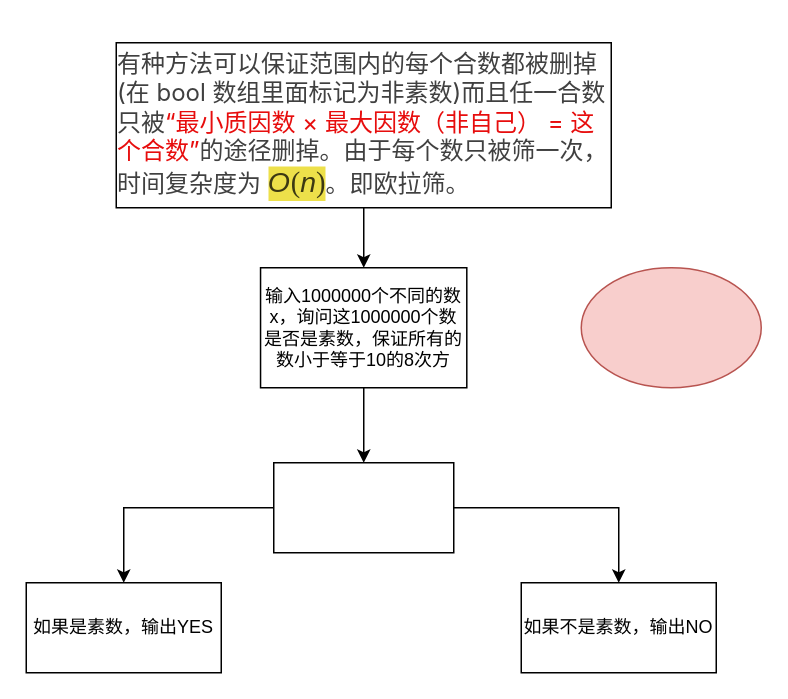
The diagram is 788 pixels wide and 699 high, and some of its shapes have lost their labels. Here are the shapes that lost their labels. From the top down, the centre of each, then its label:
At pixel 670 327: "程序可以保证所有的运算在1000ms内完成".
At pixel 363 507: "通过欧拉筛，可快速回馈答案。".
